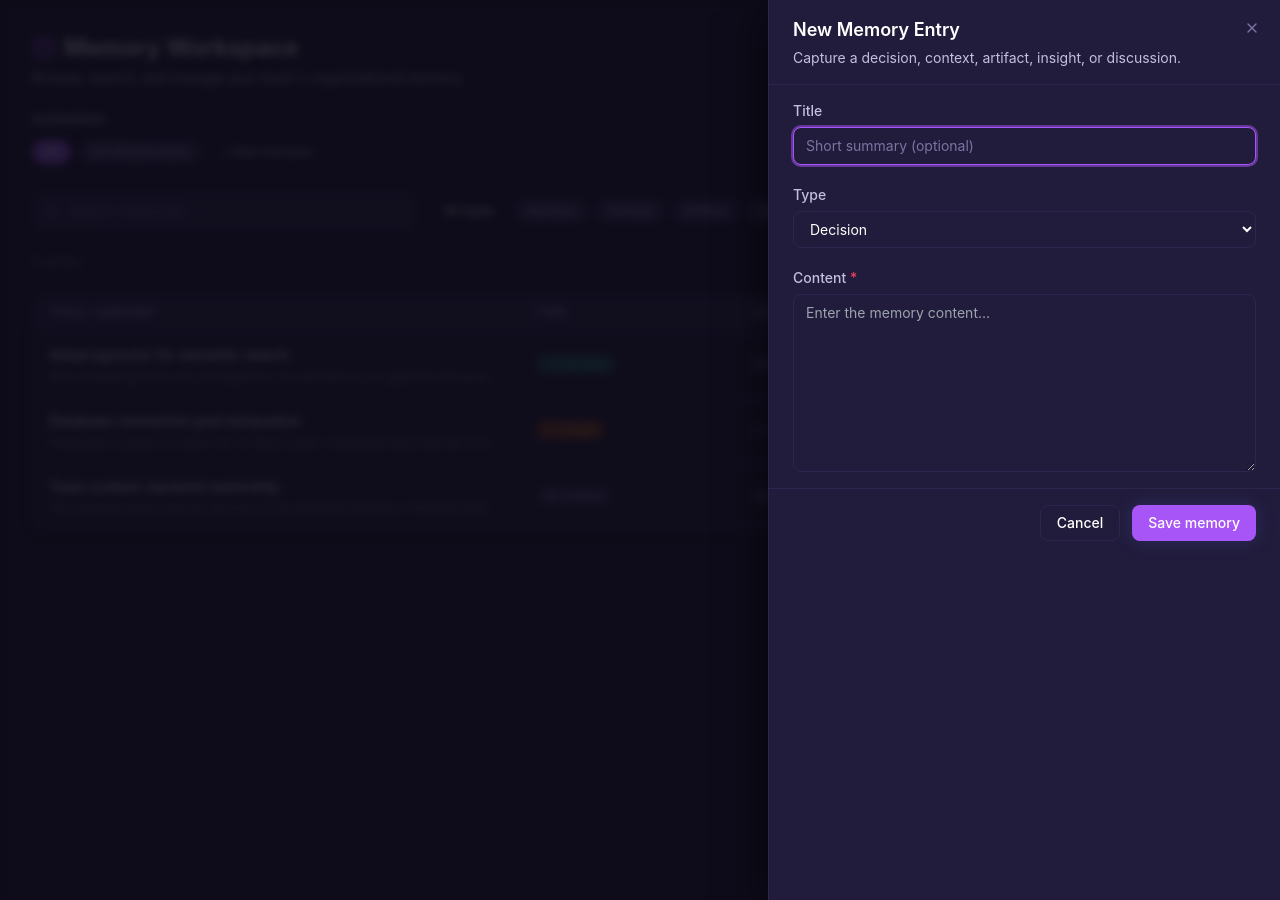
Scenario: MemoryPage — create memory drawer › shows error message on create failure
The width and height of the screenshot is (1280, 900).
Expected: the dialog is shown, x1=768 y1=0 x2=1279 y2=899
Type "This will fail." into the text box with placeholder "Enter the memory content…" at (1024, 383), box x1=793 y1=294 x2=1256 y2=472
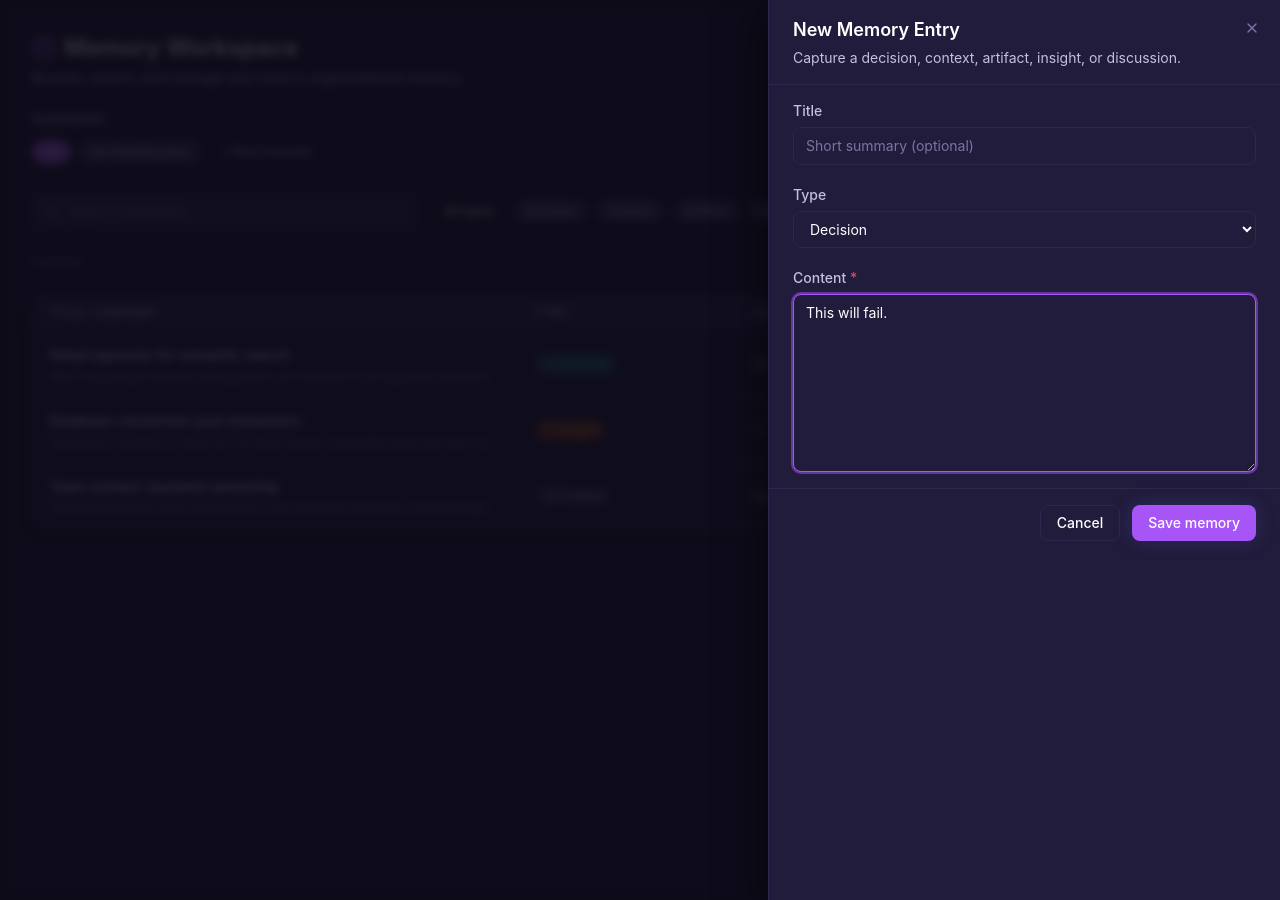
Click the button "Save memory" at (1194, 523), box x1=1132 y1=505 x2=1256 y2=541
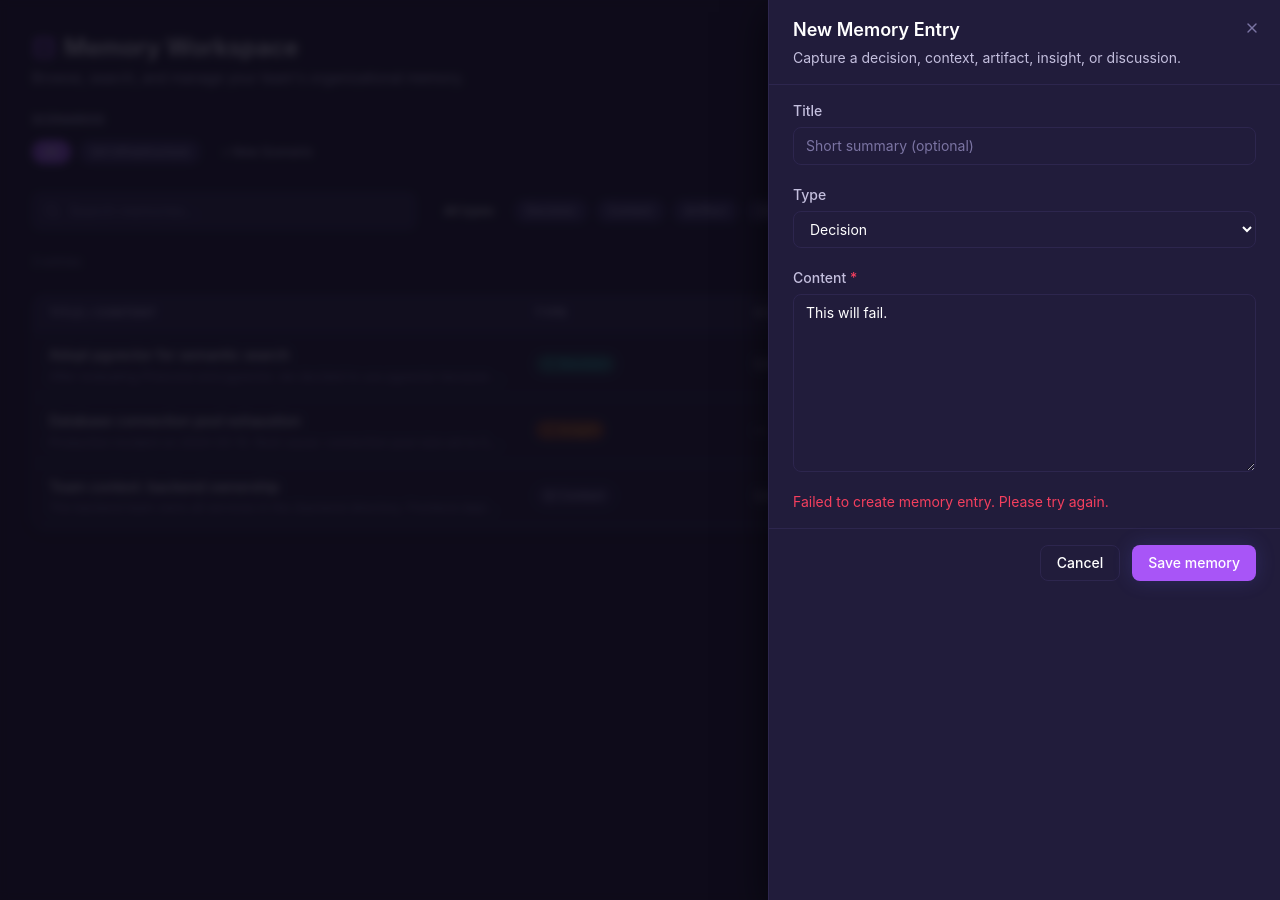
Expected: the text "Failed to create memory entry. Please try again." is shown, x1=793 y1=493 x2=1109 y2=510
